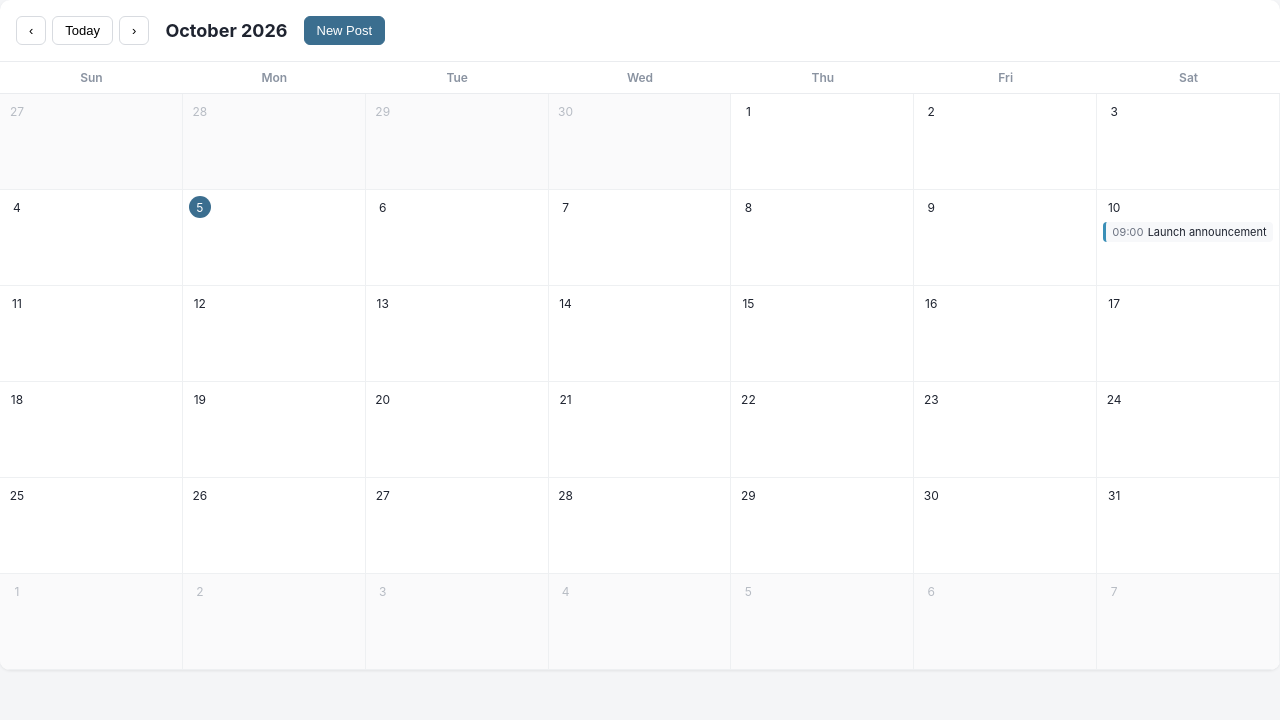
Scenario: Calendar › clicking a post event opens the edit modal with its data
Click the element with test id "post-event-post-1": (1188,232) [1103,222,1273,242]
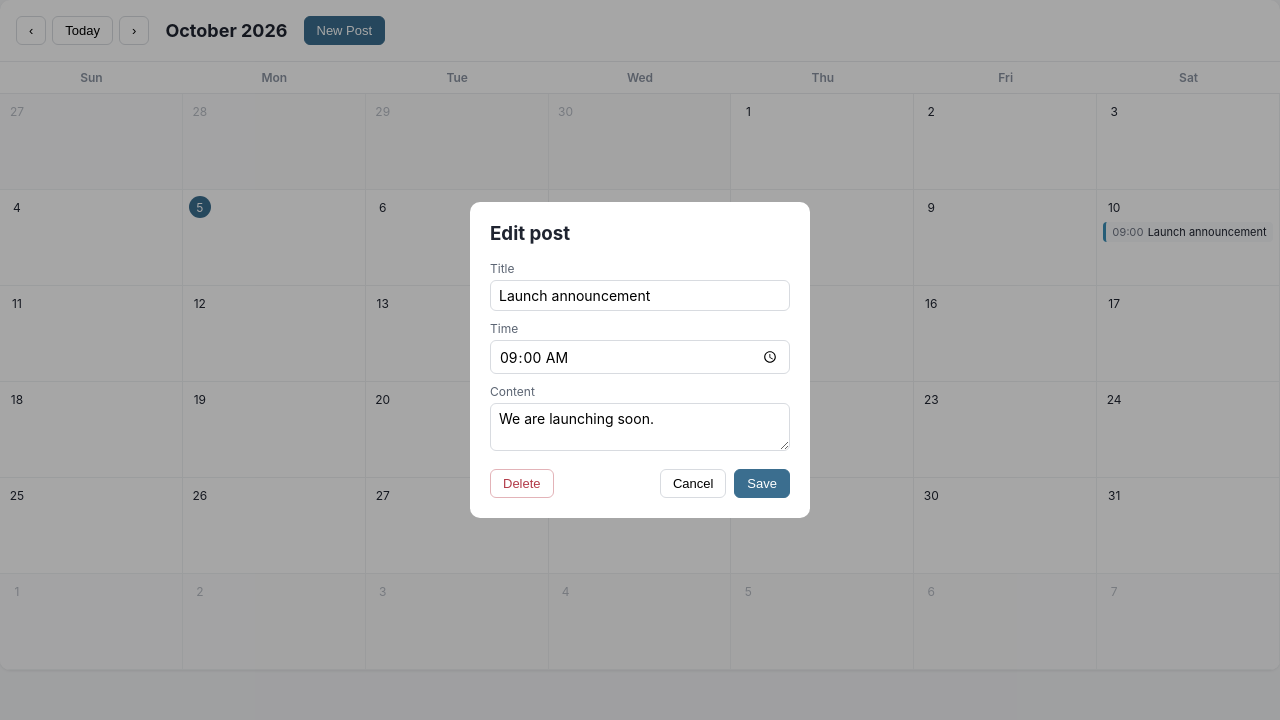
Now the element with test id "event-modal" is shown
Now the field showing "Launch announcement" is shown, box [490,280,790,311]
